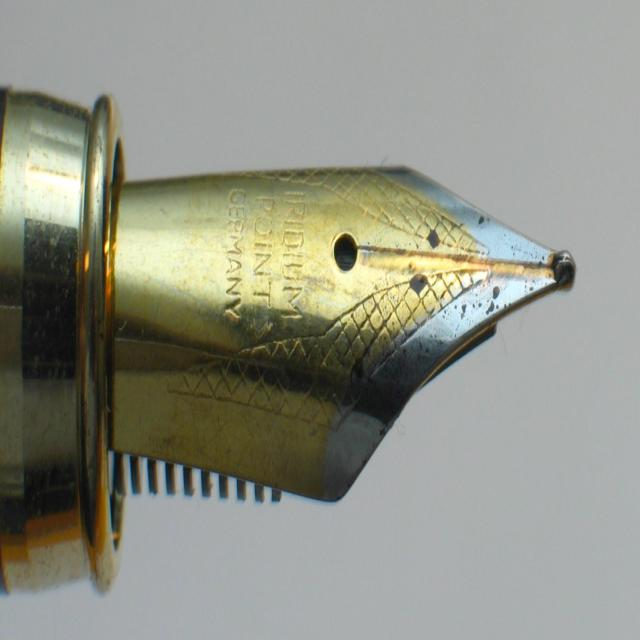pen: (0, 72, 590, 574)
